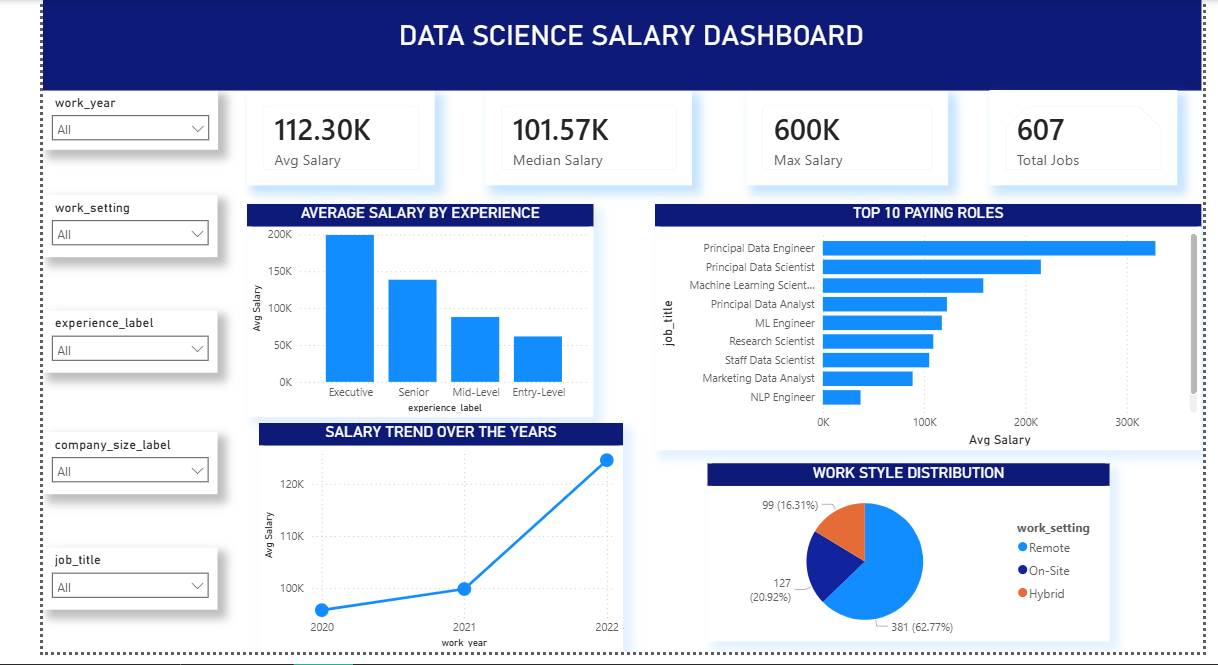

The page's visual inventory and layout, read from the dashboard file:
{"tool":"powerbi","page":{"name":"Page 1","canvas":[1280,720],"ordinal":0},"visuals":[{"type":"textbox","box":[10,0,280,280],"z":0},{"type":"cardVisual","fields":{"Data":["ds_salaries_clean.Avg Salary"]},"box":[224.6,100,207,105.3],"z":1000},{"type":"cardVisual","fields":{"Data":["ds_salaries_clean.Max Salary"]},"box":[777.2,100,222.8,105.3],"z":2000},{"type":"cardVisual","fields":{"Data":["ds_salaries_clean.Median Salary"]},"box":[489.5,100,228.1,105.3],"z":3000},{"type":"slicer","fields":{"Values":["ds_salaries_clean.work_year"]},"box":[0,100,193.2,66.1],"z":4000},{"type":"slicer","fields":{"Values":["ds_salaries_clean.experience_label"]},"box":[0,342.1,193,68.4],"z":5000},{"type":"slicer","fields":{"Values":["ds_salaries_clean.work_setting"]},"box":[0,215.8,193,68.4],"z":6000},{"type":"slicer","fields":{"Values":["ds_salaries_clean.company_size_label"]},"box":[0,477.2,193,68.4],"z":7000},{"type":"textbox","title":"                 DATA SCIENCE SALARY DASHBOARD ","box":[0,0,1279.7,100],"z":8000},{"type":"slicer","fields":{"Values":["ds_salaries_clean.job_title"]},"box":[0,605.3,193,68.4],"z":9000},{"type":"clusteredColumnChart","title":"AVERAGE SALARY BY EXPERIENCE ","fields":{"Category":["ds_salaries_clean.experience_label"],"Y":["ds_salaries_clean.Avg Salary"]},"box":[224.6,224.6,382.5,235.1],"z":10000},{"type":"clusteredBarChart","title":"TOP 10 PAYING ROLES","fields":{"Category":["ds_salaries_clean.job_title"],"Y":["ds_salaries_clean.Avg Salary"]},"box":[675.4,224.6,603.5,271.9],"z":11000},{"type":"cardVisual","fields":{"Data":["ds_salaries_clean.Total Jobs"]},"box":[1045.6,100,207,105.3],"z":12000},{"type":"lineChart","title":"SALARY TREND OVER THE YEARS","fields":{"Y":["ds_salaries_clean.Avg Salary"],"Category":["ds_salaries_clean.work_year"]},"box":[238.6,466.7,401.8,252.6],"z":13000},{"type":"pieChart","title":"WORK STYLE DISTRIBUTION","fields":{"Category":["ds_salaries_clean.work_setting"],"Y":["CountNonNull(ds_salaries_clean.job_title)"]},"box":[733.3,512.3,443.9,196.5],"z":14000}]}

Visuals, with their boxes in screenshot pixels (x1, y1, x2, y2):
textbox: locate(44, 0, 299, 252)
cardVisual - ds_salaries_clean.Avg Salary: locate(240, 88, 429, 184)
cardVisual - ds_salaries_clean.Max Salary: locate(744, 88, 947, 184)
cardVisual - ds_salaries_clean.Median Salary: locate(481, 88, 690, 184)
slicer - ds_salaries_clean.work_year: locate(35, 88, 211, 148)
slicer - ds_salaries_clean.experience_label: locate(35, 309, 211, 371)
slicer - ds_salaries_clean.work_setting: locate(35, 194, 211, 256)
slicer - ds_salaries_clean.company_size_label: locate(35, 432, 211, 495)
"                 DATA SCIENCE SALARY DASHBOARD " textbox: locate(35, 0, 1202, 88)
slicer - ds_salaries_clean.job_title: locate(35, 549, 211, 611)
"AVERAGE SALARY BY EXPERIENCE " clusteredColumnChart: locate(240, 202, 589, 416)
"TOP 10 PAYING ROLES" clusteredBarChart: locate(651, 202, 1202, 450)
cardVisual - ds_salaries_clean.Total Jobs: locate(989, 88, 1178, 184)
"SALARY TREND OVER THE YEARS" lineChart: locate(253, 423, 619, 653)
"WORK STYLE DISTRIBUTION" pieChart: locate(704, 464, 1109, 643)
